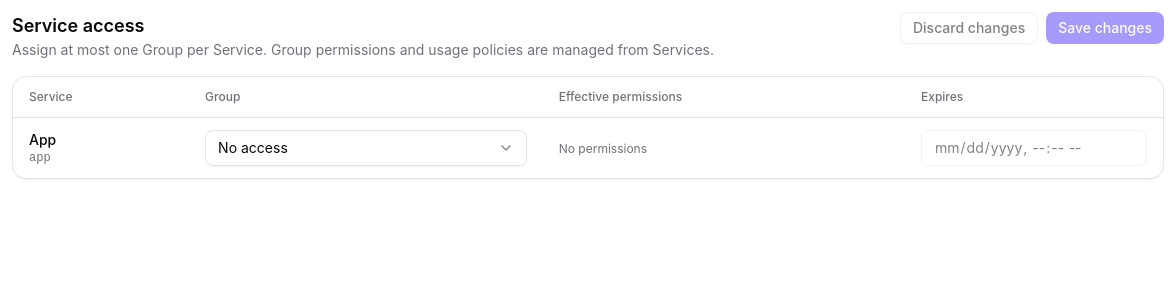
Test: UserAccessTab › renders active Groups sorted by name
Step 1. Click the dropdown named "Group for App" → (253, 147), box x1=205 y1=130 x2=527 y2=166
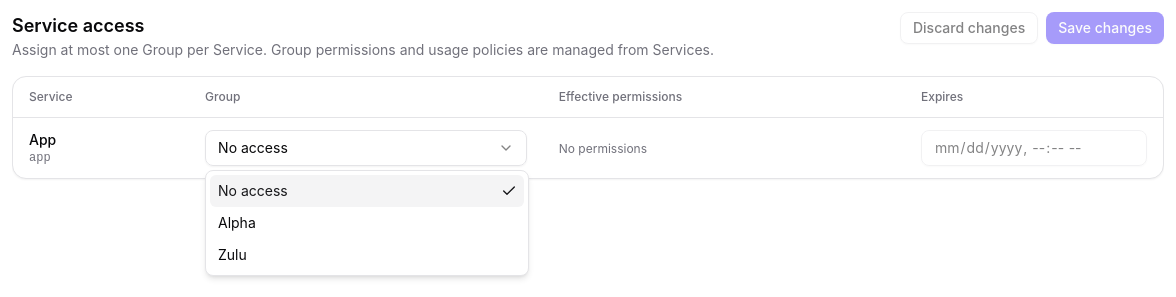
Check: the options read "No access", "Alpha", "Zulu", in this order, box x1=210 y1=175 x2=524 y2=207; x1=218 y1=214 x2=256 y2=231; x1=218 y1=246 x2=247 y2=263
